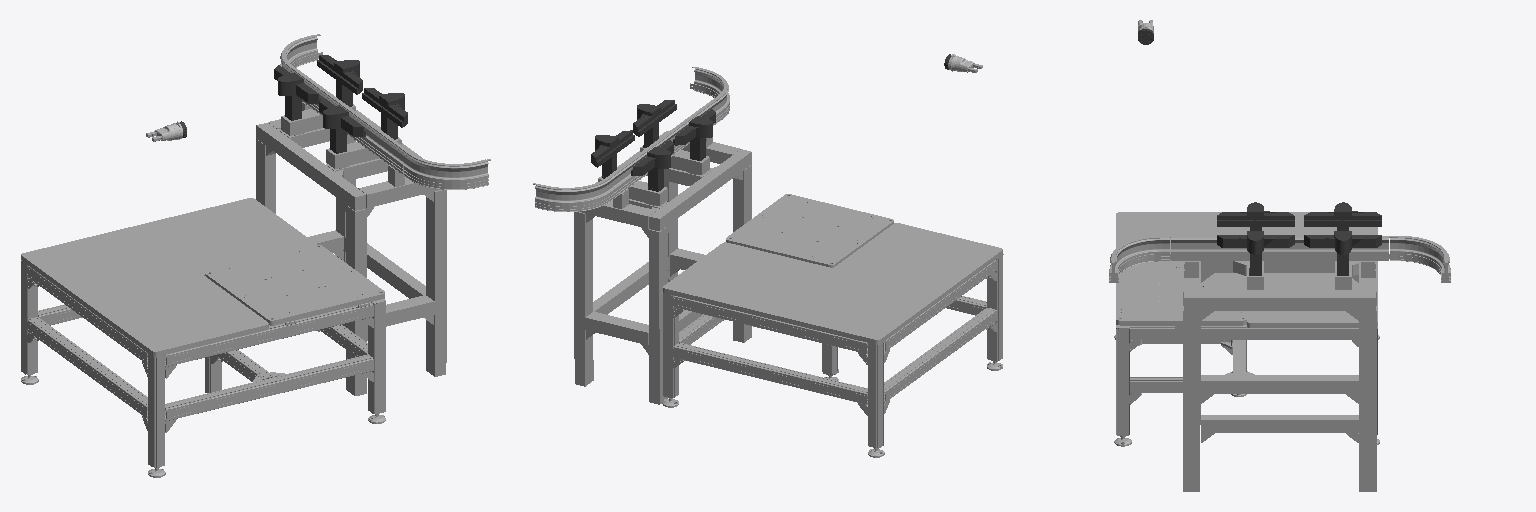
The robot description file, URDF, robot "yaskawa_1":
<?xml version="1.0" ?>
<!-- =================================================================================== -->
<!-- |    This document was autogenerated by xacro from hc10_with_env.xacro            | -->
<!-- |    EDITING THIS FILE BY HAND IS NOT RECOMMENDED                                 | -->
<!-- =================================================================================== -->
<robot name="yaskawa_1">
  <material name="silver">
    <color rgba="0.700 0.700 0.700 1.000"/>
  </material>
  <material name="dark_gray">
    <color rgba="0.3 0.3 0.3 1.000"/>
  </material>
  <material name="white_smoke">
    <color rgba="0.7607 0.7607 0.7607 1.000"/>
  </material>
  <!-- link list -->
  <link name="yaska1_base_link">
    <visual>
      <geometry>
        <mesh filename="package://motoman_hc10_support/meshes/hc10dt_b10/visual/base_link.dae"/>
      </geometry>
      <material name="">
        <color rgba="0.12941176470588237 0.14901960784313725 0.7490196078431373 1.0"/>
      </material>
    </visual>
    <collision>
      <geometry>
        <mesh filename="package://motoman_hc10_support/meshes/hc10dt_b10/collision/base_link.stl"/>
      </geometry>
    </collision>
  </link>
  <link name="yaska1_link_1_s">
    <visual>
      <geometry>
        <mesh filename="package://motoman_hc10_support/meshes/hc10dt_b10/visual/link_1_s.dae"/>
      </geometry>
      <material name="">
        <color rgba="0.12941176470588237 0.14901960784313725 0.7490196078431373 1.0"/>
      </material>
    </visual>
    <collision>
      <geometry>
        <mesh filename="package://motoman_hc10_support/meshes/hc10dt_b10/collision/link_1_s.stl"/>
      </geometry>
    </collision>
  </link>
  <link name="yaska1_link_2_l">
    <visual>
      <geometry>
        <mesh filename="package://motoman_hc10_support/meshes/hc10dt_b10/visual/link_2_l.dae"/>
      </geometry>
      <material name="">
        <color rgba="0.12941176470588237 0.14901960784313725 0.7490196078431373 1.0"/>
      </material>
    </visual>
    <collision>
      <geometry>
        <mesh filename="package://motoman_hc10_support/meshes/hc10dt_b10/collision/link_2_l.stl"/>
      </geometry>
    </collision>
  </link>
  <link name="yaska1_link_3_u">
    <visual>
      <geometry>
        <mesh filename="package://motoman_hc10_support/meshes/hc10dt_b10/visual/link_3_u.dae"/>
      </geometry>
      <material name="">
        <color rgba="0.12941176470588237 0.14901960784313725 0.7490196078431373 1.0"/>
      </material>
    </visual>
    <collision>
      <geometry>
        <mesh filename="package://motoman_hc10_support/meshes/hc10dt_b10/collision/link_3_u.stl"/>
      </geometry>
    </collision>
  </link>
  <link name="yaska1_link_4_r">
    <visual>
      <geometry>
        <mesh filename="package://motoman_hc10_support/meshes/hc10dt_b10/visual/link_4_r.dae"/>
      </geometry>
      <material name="">
        <color rgba="0.12941176470588237 0.14901960784313725 0.7490196078431373 1.0"/>
      </material>
    </visual>
    <collision>
      <geometry>
        <mesh filename="package://motoman_hc10_support/meshes/hc10dt_b10/collision/link_4_r.stl"/>
      </geometry>
    </collision>
  </link>
  <link name="yaska1_link_5_b">
    <visual>
      <geometry>
        <mesh filename="package://motoman_hc10_support/meshes/hc10dt_b10/visual/link_5_b.dae"/>
      </geometry>
      <material name="">
        <color rgba="0.12941176470588237 0.14901960784313725 0.7490196078431373 1.0"/>
      </material>
    </visual>
    <collision>
      <geometry>
        <mesh filename="package://motoman_hc10_support/meshes/hc10dt_b10/collision/link_5_b.stl"/>
      </geometry>
    </collision>
  </link>
  <link name="yaska1_link_6_t">
    <visual>
      <geometry>
        <mesh filename="package://motoman_hc10_support/meshes/hc10dt_b10/visual/link_6_t.dae"/>
      </geometry>
      <material name="">
        <color rgba="0.12941176470588237 0.14901960784313725 0.7490196078431373 1.0"/>
      </material>
    </visual>
    <collision>
      <geometry>
        <mesh filename="package://motoman_hc10_support/meshes/hc10dt_b10/collision/link_6_t.stl"/>
      </geometry>
    </collision>
  </link>
  <!-- end of link list -->
  <!-- joint list -->
  <joint name="yaska1_joint_1_s" type="revolute">
    <parent link="yaska1_base_link"/>
    <child link="yaska1_link_1_s"/>
    <origin rpy="0 0 1.5707963267948966" xyz="0 0 0.275"/>
    <axis xyz="0 0 1"/>
    <limit effort="368.48" lower="-3.141592653589793" upper="3.141592653589793" velocity="2.2689280275926285"/>
  </joint>
  <joint name="yaska1_joint_2_l" type="revolute">
    <parent link="yaska1_link_1_s"/>
    <child link="yaska1_link_2_l"/>
    <origin rpy="0 0 0" xyz="0 0 0"/>
    <axis xyz="0 1 0"/>
    <limit effort="414.54" lower="-3.141592653589793" upper="3.141592653589793" velocity="2.2689280275926285"/>
  </joint>
  <joint name="yaska1_joint_3_u" type="revolute">
    <parent link="yaska1_link_2_l"/>
    <child link="yaska1_link_3_u"/>
    <origin rpy="0 0 0" xyz="0 0 0.700"/>
    <axis xyz="0 -1 0"/>
    <limit effort="158.76" lower="-1.6580627893946132" upper="4.625122517784973" velocity="3.141592653589793"/>
  </joint>
  <joint name="yaska1_joint_4_r" type="revolute">
    <parent link="yaska1_link_3_u"/>
    <child link="yaska1_link_4_r"/>
    <origin rpy="0 0 0" xyz="0.500 0 0"/>
    <axis xyz="-1 0 0"/>
    <limit effort="41.16" lower="-3.141592653589793" upper="3.141592653589793" velocity="3.141592653589793"/>
  </joint>
  <joint name="yaska1_joint_5_b" type="revolute">
    <parent link="yaska1_link_4_r"/>
    <child link="yaska1_link_5_b"/>
    <origin rpy="0 0 0" xyz="0 0.162 0"/>
    <axis xyz="0 -1 0"/>
    <limit effort="33.32" lower="-3.141592653589793" upper="3.141592653589793" velocity="4.363323129985824"/>
  </joint>
  <joint name="yaska1_joint_6_t" type="revolute">
    <parent link="yaska1_link_5_b"/>
    <child link="yaska1_link_6_t"/>
    <origin rpy="0 0 0" xyz="0 0 0"/>
    <axis xyz="-1 0 0"/>
    <limit effort="31.36" lower="-3.141592653589793" upper="3.141592653589793" velocity="4.363323129985824"/>
  </joint>
  <!-- end of joint list -->
  <!-- ROS-Industrial 'flange' frame: attachment point for EEF models -->
  <link name="yaska1_flange"/>
  <joint name="yaska1_joint_6_t-flange" type="fixed">
    <origin rpy="0 0 0" xyz="0.170 0 0"/>
    <parent link="yaska1_link_6_t"/>
    <child link="yaska1_flange"/>
  </joint>
  <!-- ROS-Industrial 'tool0' frame: all-zeros tool frame -->
  <link name="yaska1_tool0"/>
  <joint name="yaska1_flange-tool0" type="fixed">
    <origin rpy="3.141592653589793 -1.5707963267948966 0" xyz="0 0 0"/>
    <parent link="yaska1_flange"/>
    <child link="yaska1_tool0"/>
  </joint>
  <!-- ROS base_link to Robot Manufacturer World Coordinates transform -->
  <link name="yaska1_base"/>
  <joint name="yaska1_base_link-base" type="fixed">
    <origin rpy="0 0 0" xyz="0 0 0.275"/>
    <parent link="yaska1_base_link"/>
    <child link="yaska1_base"/>
  </joint>
  <link name="table_link">
    <visual>
      <origin rpy="0 0 0" xyz="0 0 0"/>
      <geometry>
        <mesh filename="package://motoman_hc10_support/meshes/env/table_yaskawa.stl" scale="1 1 1"/>
      </geometry>
      <material name="silver"/>
    </visual>
    <collision>
      <origin rpy="0 0 0" xyz="0 0 0"/>
      <geometry>
        <mesh filename="package://motoman_hc10_support/meshes/env/table_yaskawa.stl" scale="1 1 1"/>
      </geometry>
    </collision>
  </link>
  <link name="pieds_cellule_link">
    <visual>
      <origin rpy="0 0 0" xyz="0 0 0"/>
      <geometry>
        <mesh filename="package://motoman_hc10_support/meshes/env/pieds_cellule.stl" scale="1 1 1"/>
      </geometry>
      <material name="silver"/>
    </visual>
    <collision>
      <origin rpy="0 0 0" xyz="0 0 0"/>
      <geometry>
        <mesh filename="package://motoman_hc10_support/meshes/env/pieds_cellule.stl" scale="1 1 1"/>
      </geometry>
    </collision>
  </link>
  <link name="ergots1_link">
    <visual>
      <origin rpy="0 0 0" xyz="0 0 0"/>
      <geometry>
        <mesh filename="package://motoman_hc10_support/meshes/env/ergots.stl" scale="0.001 0.001 0.001"/>
      </geometry>
      <material name="dark_gray"/>
    </visual>
    <collision>
      <origin rpy="0 0 0" xyz="0 0 0"/>
      <geometry>
        <mesh filename="package://motoman_hc10_support/meshes/env/ergots.stl" scale="0.001 0.001 0.001"/>
      </geometry>
    </collision>
  </link>
  <link name="ergots2_link">
    <visual>
      <origin rpy="0 0 0" xyz="0 0 0"/>
      <geometry>
        <mesh filename="package://motoman_hc10_support/meshes/env/ergots.stl" scale="0.001 0.001 0.001"/>
      </geometry>
      <material name="dark_gray"/>
    </visual>
    <collision>
      <origin rpy="0 0 0" xyz="0 0 0"/>
      <geometry>
        <mesh filename="package://motoman_hc10_support/meshes/env/ergots.stl" scale="0.001 0.001 0.001"/>
      </geometry>
    </collision>
  </link>
  <link name="rail_milieu_link">
    <visual>
      <origin rpy="0 0 0" xyz="0 0 0"/>
      <geometry>
        <mesh filename="package://motoman_hc10_support/meshes/env/rail_milieu.stl" scale="0.001 0.001 0.001"/>
      </geometry>
      <material name="silver"/>
    </visual>
    <collision>
      <origin rpy="0 0 0" xyz="0 0 0"/>
      <geometry>
        <mesh filename="package://motoman_hc10_support/meshes/env/rail_milieu.stl" scale="0.001 0.001 0.001"/>
      </geometry>
    </collision>
  </link>
  <link name="rail_tournant1_link">
    <visual>
      <origin rpy="0 0 0" xyz="0 0 0"/>
      <geometry>
        <mesh filename="package://motoman_hc10_support/meshes/env/rail_tournant.stl" scale="0.001 0.001 0.001"/>
      </geometry>
      <material name="silver"/>
    </visual>
    <collision>
      <origin rpy="0 0 0" xyz="0 0 0"/>
      <geometry>
        <mesh filename="package://motoman_hc10_support/meshes/env/rail_tournant.stl" scale="0.001 0.001 0.001"/>
      </geometry>
    </collision>
  </link>
  <link name="rail_tournant2_link">
    <visual>
      <origin rpy="0 0 0" xyz="0 0 0"/>
      <geometry>
        <mesh filename="package://motoman_hc10_support/meshes/env/rail_tournant.stl" scale="0.001 0.001 0.001"/>
      </geometry>
      <material name="silver"/>
    </visual>
    <collision>
      <origin rpy="0 0 0" xyz="0 0 0"/>
      <geometry>
        <mesh filename="package://motoman_hc10_support/meshes/env/rail_tournant.stl" scale="0.001 0.001 0.001"/>
      </geometry>
    </collision>
  </link>
  <joint name="pieds_cellule_ergots1" type="fixed">
    <origin rpy="0 0 0" xyz="0.111 0.025 0.485"/>
    <parent link="pieds_cellule_link"/>
    <child link="ergots1_link"/>
  </joint>
  <joint name="pieds_cellule_ergots2" type="fixed">
    <origin rpy="0 0 0" xyz="-0.29 0.025 0.485"/>
    <parent link="pieds_cellule_link"/>
    <child link="ergots2_link"/>
  </joint>
  <joint name="pieds_cellule_rail_milieu" type="fixed">
    <origin rpy="0 0 0" xyz="-0.02 0 0.403"/>
    <parent link="pieds_cellule_link"/>
    <child link="rail_milieu_link"/>
  </joint>
  <joint name="rail_milieu_rail_tournant1" type="fixed">
    <origin rpy="-1.57079 3.14 1.57079" xyz="0.69 0.09 0.003"/>
    <parent link="rail_milieu_link"/>
    <child link="rail_tournant1_link"/>
  </joint>
  <joint name="rail_milieu_rail_tournant2" type="fixed">
    <origin rpy="-1.57079 3.14 0" xyz="-0.651 0.09 0.003"/>
    <parent link="rail_milieu_link"/>
    <child link="rail_tournant2_link"/>
  </joint>
  <!-- Ajout des différentes pièces de la pinces / couleurs définies dans le fichier materials.xacro-->
  <link name="adaptater_plate_link">
    <visual>
      <geometry>
        <mesh filename="package://motoman_hc10_support/meshes/hand/LWR50F-17-04-A.stl" scale="0.001 0.001 0.001"/>
      </geometry>
      <material name="dark_gray"/>
    </visual>
    <collision>
      <geometry>
        <mesh filename="package://motoman_hc10_support/meshes/hand/LWR50F-17-04-A.stl" scale="0.001 0.001 0.001"/>
      </geometry>
    </collision>
  </link>
  <link name="end_effector_link">
    <visual>
      <geometry>
        <mesh filename="package://motoman_hc10_support/meshes/hand/end_effector_LWR50L-03-00001-A.stl" scale="0.001 0.001 0.001"/>
      </geometry>
      <material name="white_smoke"/>
    </visual>
    <collision>
      <geometry>
        <mesh filename="package://motoman_hc10_support/meshes/hand/end_effector_LWR50L-03-00001-A.stl" scale="0.001 0.001 0.001"/>
      </geometry>
    </collision>
  </link>
  <link name="mors_link1">
    <visual>
      <geometry>
        <mesh filename="package://motoman_hc10_support/meshes/hand/mors_for_LWR50L-03-00001-A.stl" scale="0.001 0.001 0.001"/>
      </geometry>
      <material name="silver"/>
    </visual>
    <collision>
      <geometry>
        <mesh filename="package://motoman_hc10_support/meshes/hand/mors_for_LWR50L-03-00001-A.stl" scale="0.001 0.001 0.001"/>
      </geometry>
    </collision>
  </link>
  <link name="mors_link2">
    <visual>
      <geometry>
        <mesh filename="package://motoman_hc10_support/meshes/hand/mors_for_LWR50L-03-00001-A.stl" scale="0.001 0.001 0.001"/>
      </geometry>
      <material name="silver"/>
    </visual>
    <collision>
      <geometry>
        <mesh filename="package://motoman_hc10_support/meshes/hand/mors_for_LWR50L-03-00001-A.stl" scale="0.001 0.001 0.001"/>
      </geometry>
    </collision>
  </link>
  <!-- Création des joints  -->
  <joint name="adapatater_plate_end_effector" type="fixed">
    <origin rpy="0 1.57079 0" xyz="0 -0.039 0"/>
    <parent link="adaptater_plate_link"/>
    <child link="end_effector_link"/>
  </joint>
  <!-- ce joint doit être de type prismatique -->
  <joint name="end_effector_mors1" type="prismatic">
    <origin rpy="0 0 0" xyz="0 0 0"/>
    <parent link="end_effector_link"/>
    <child link="mors_link1"/>
    <axis xyz="0 0 1"/>
    <limit effort="1000.0" lower="-0.0108" upper="0" velocity="0.5"/>
  </joint>
  <!-- ce joint doit être de type prismatique -->
  <joint name="end_effector_adaptater_mors2" type="prismatic">
    <origin rpy="0 3.14 0" xyz="0 0 0"/>
    <parent link="end_effector_link"/>
    <child link="mors_link2"/>
    <axis xyz="0 0 1"/>
    <limit effort="1000.0" lower="-0.0108" upper="0" velocity="0.5"/>
  </joint>
  <!-- linking robot to world,workspaces and end-effector -->
  <link name="world"/>
  <joint name="world_cell" type="fixed">
    <origin rpy="0 0 -1.57079" xyz="0.72 0.27 0.698"/>
    <parent link="world"/>
    <child link="pieds_cellule_link"/>
  </joint>
  <joint name="world_table" type="fixed">
    <origin rpy="1.57079 0 0" xyz="0 0 0.432"/>
    <parent link="world"/>
    <child link="table_link"/>
  </joint>
  <joint name="table_yaska1" type="fixed">
    <origin rpy="-1.57079 1.57079 0" xyz="0.171 0.203 0.181"/>
    <parent link="table_link"/>
    <child link="yaska1_base_link"/>
  </joint>
  <joint name="tool_adaptater" type="fixed">
    <origin rpy="-1.57079 0 -1.57079" xyz="0 0 0"/>
    <parent link="yaska1_tool0"/>
    <child link="adaptater_plate_link"/>
  </joint>
</robot>

--- What the picture shows (computed from the rendered views, not written in the file) ---
The picture shows the robot from 3 angles, left to right: view 1: azimuth 30°, elevation 25°; view 2: azimuth 150°, elevation 25°; view 3: azimuth 270°, elevation 25°; orthographic projection.
Robot: yaskawa_1 — 22 links, 21 joints (6 revolute, 2 prismatic, 13 fixed); root link world; default pose: every joint at zero.
Links seen in each view (by area): view 1: table_link, pieds_cellule_link, ergots1_link, ergots2_link, rail_tournant1_link, rail_milieu_link, rail_tournant2_link; view 2: table_link, pieds_cellule_link, ergots1_link, ergots2_link, rail_tournant2_link, rail_milieu_link, rail_tournant1_link; view 3: pieds_cellule_link, table_link, rail_milieu_link, ergots1_link, ergots2_link, rail_tournant1_link, rail_tournant2_link.
Boxes of the visible links, box(x1,y1,x2,y2) form: table_link: box(21, 198, 385, 477); pieds_cellule_link: box(256, 102, 446, 395); ergots1_link: box(319, 88, 407, 153); ergots2_link: box(274, 55, 362, 120); rail_tournant1_link: box(404, 150, 490, 189); rail_milieu_link: box(292, 69, 408, 174); rail_tournant2_link: box(280, 34, 322, 72); table_link: box(662, 194, 1003, 457); pieds_cellule_link: box(574, 131, 751, 404); ergots1_link: box(633, 100, 715, 160); ergots2_link: box(591, 130, 673, 191); rail_tournant2_link: box(533, 174, 614, 211); rail_milieu_link: box(609, 99, 718, 197); rail_tournant1_link: box(690, 67, 729, 121); pieds_cellule_link: box(1183, 261, 1376, 491); table_link: box(1114, 212, 1379, 446); rail_milieu_link: box(1171, 236, 1388, 260); ergots1_link: box(1217, 202, 1294, 275); ergots2_link: box(1304, 202, 1381, 275); rail_tournant1_link: box(1109, 236, 1174, 282); rail_tournant2_link: box(1385, 236, 1450, 282).
Size in the robot's own frame: 1.74 by 1.56 by 1.66 metres.
11 mesh visuals loaded from 15 distinct referenced files (8 binary STL); not drawn: 7 (reference not matched to a file when rendering).